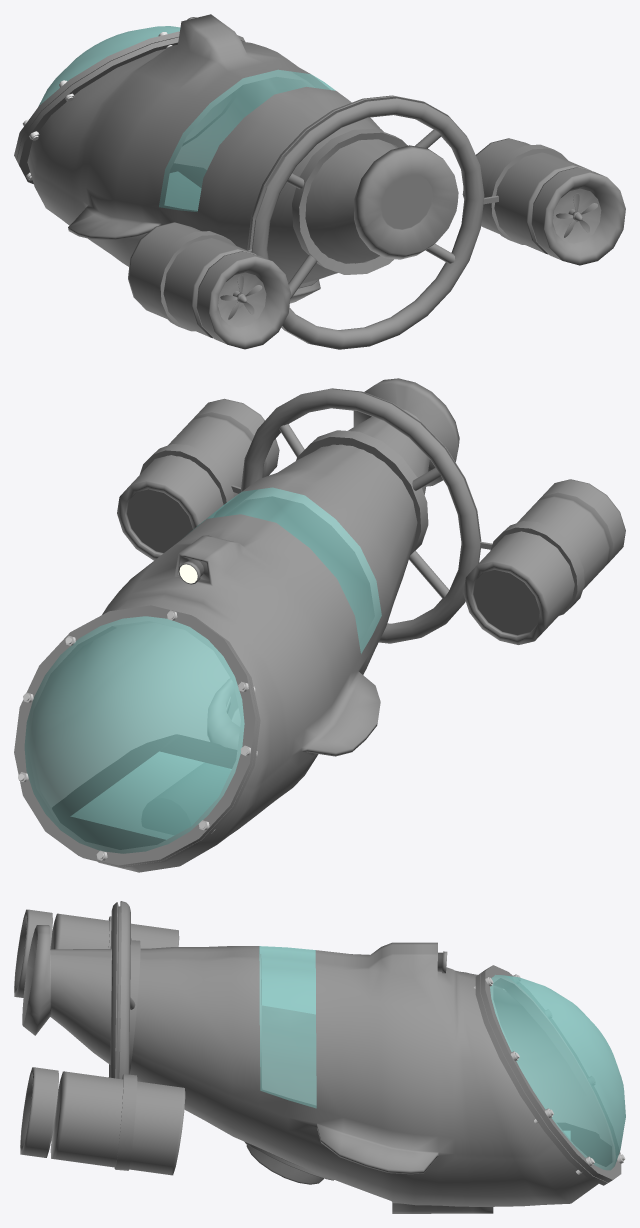
The model's file is Sub_per_1.FBX.
The picture shows the model from 3 angles, top to bottom: view 1: azimuth 30°, elevation 25°; view 2: azimuth 150°, elevation 25°; view 3: azimuth 270°, elevation 25°; orthographic projection. The views are drawn at different scales.
Parts seen in each view (by area): view 1: cuerpo, aro, turbina_1, turbina_002, cristal_trasero, Object009, Cylinder002, aro_amarre, cristal_frontal, abrazadera_1, abrazodara, Plane011 (+1 smaller); view 2: cuerpo, cristal_frontal, Object009, turbina_1, Cylinder002, turbina_002, aro, Plane011, cristal_trasero, Object010, aro_amarre, Spindle001 (+2 smaller); view 3: cuerpo, cristal_frontal, turbina_002, Object009, cristal_trasero, Cylinder002, turbina_1, aro, abrazodara, Object010, aro_amarre, Spindle001.
Boxes of the visible parts, bbox=[...] form: cuerpo: bbox=[27, 14, 458, 288]; aro: bbox=[247, 95, 484, 349]; turbina_1: bbox=[128, 222, 290, 349]; turbina_002: bbox=[462, 138, 625, 265]; cristal_trasero: bbox=[159, 69, 335, 211]; Object009: bbox=[159, 70, 314, 211]; Cylinder002: bbox=[14, 31, 245, 183]; aro_amarre: bbox=[292, 128, 407, 274]; cristal_frontal: bbox=[38, 26, 180, 106]; abrazadera_1: bbox=[153, 231, 235, 331]; abrazodara: bbox=[484, 144, 568, 244]; Plane011: bbox=[165, 172, 200, 210]; cuerpo: bbox=[98, 378, 459, 872]; cristal_frontal: bbox=[24, 616, 244, 853]; Object009: bbox=[33, 487, 381, 808]; turbina_1: bbox=[463, 479, 625, 644]; Cylinder002: bbox=[14, 605, 260, 867]; turbina_002: bbox=[117, 398, 279, 560]; aro: bbox=[241, 388, 481, 643]; Plane011: bbox=[71, 752, 231, 839]; cristal_trasero: bbox=[182, 487, 381, 653]; Object010: bbox=[52, 734, 236, 849]; aro_amarre: bbox=[296, 430, 428, 554]; Spindle001: bbox=[207, 678, 240, 749]; cuerpo: bbox=[22, 925, 598, 1213]; cristal_frontal: bbox=[490, 975, 625, 1170]; turbina_002: bbox=[20, 1067, 185, 1175]; Object009: bbox=[259, 954, 598, 1133]; cristal_trasero: bbox=[259, 946, 316, 1108]; Cylinder002: bbox=[475, 965, 621, 1185]; turbina_1: bbox=[14, 909, 179, 997]; aro: bbox=[108, 901, 130, 1079]; abrazodara: bbox=[114, 1074, 137, 1170]; Object010: bbox=[557, 1123, 611, 1166]; aro_amarre: bbox=[129, 940, 140, 1074]; Spindle001: bbox=[246, 1144, 323, 1184].
Bounding box in the file's own units: 12.46 × 16.37 × 8.83.
